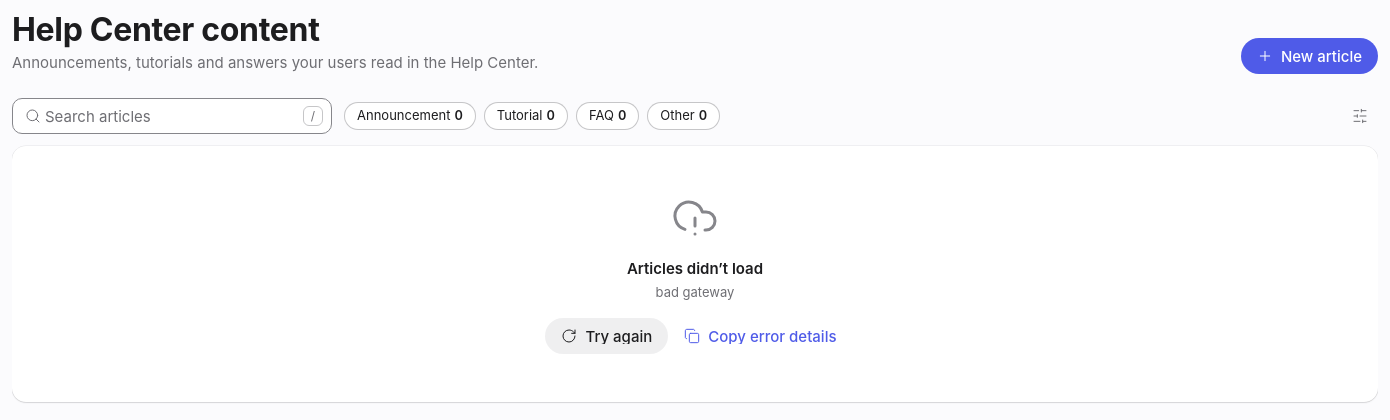
Test: Admin Knowledge › dialogs and feedback › shows a load error with retry, then the empty state
The image size is (1390, 420).
expect the message shows "Articles didn’t load": met, box [627, 259, 763, 278]
Click the button "Try again" at (607, 336), box [546, 318, 668, 354]
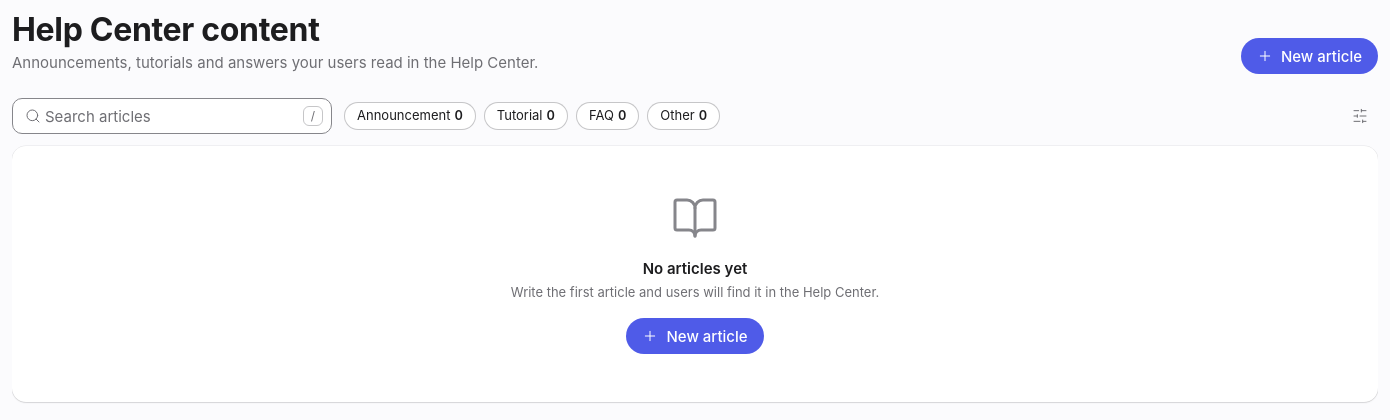
expect the heading "No articles yet" is shown: met, box [643, 259, 747, 278]
